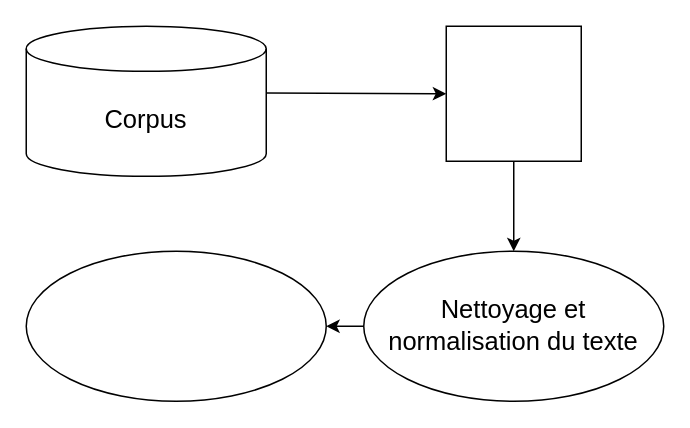
Some shapes in this 690 by 428 pixel diagram are drawn without their labels. Each missing label, with the box of its shape:
Lemmatisation et Etiquetage Part-of-Speech avec Spacy: (25, 250, 326, 401)
Pré-traitement: (445, 25, 581, 161)
